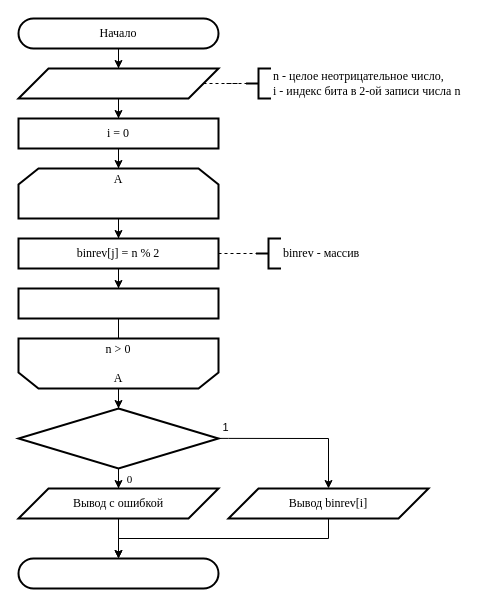
This 480x606 diagram has some shape labels left out. The shapes that lost their labels are listed below. From the top down, each one's centre as x and y in pixels, then its label:
point 118,83: Ввод n, i
point 118,303: j = j + 1
point 118,438: i < 0 или i >= j
point 118,573: Конец
